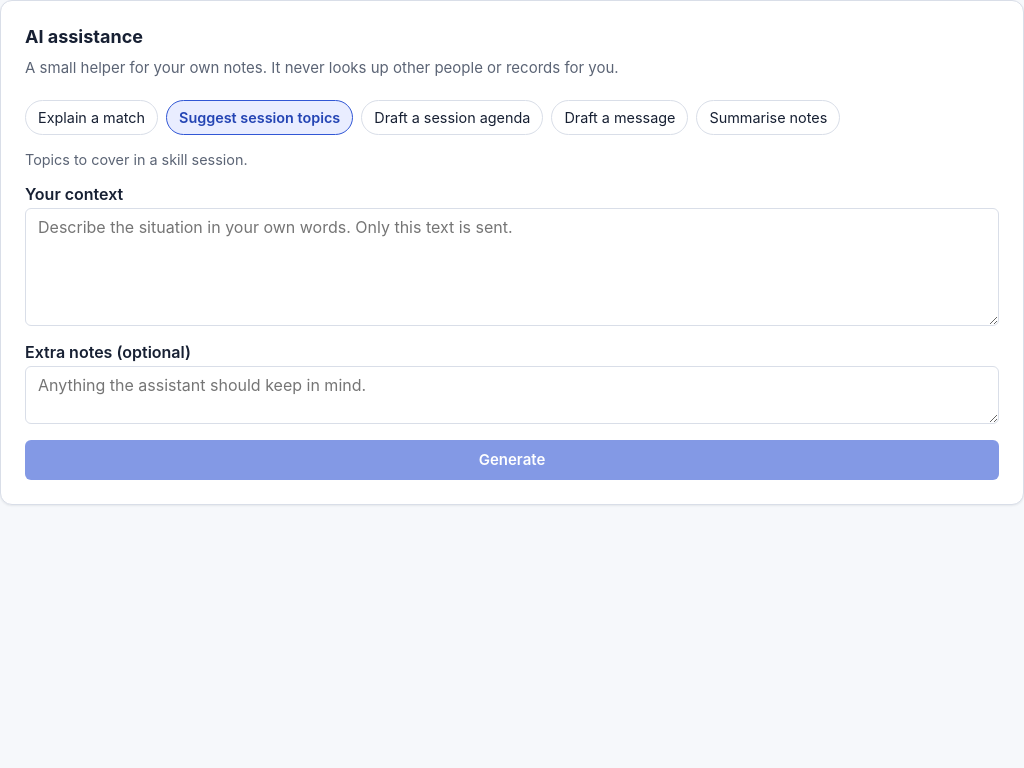
it: AiAssistancePanel › shows a clean unavailable state and invents no text
Replace the text in the text box with placeholder "Describe the situation" with "I want to learn advanced Python from a verified peer.": (512, 267) [25,208,999,326]
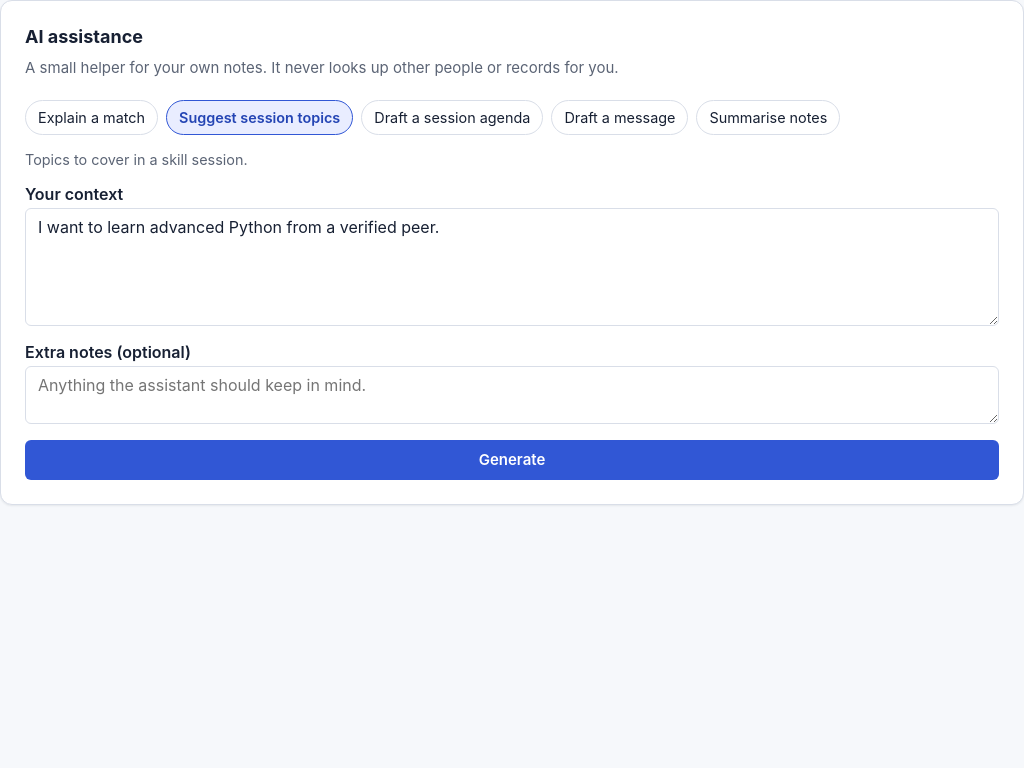
Click the button "Generate": (512, 460) [25,440,999,480]
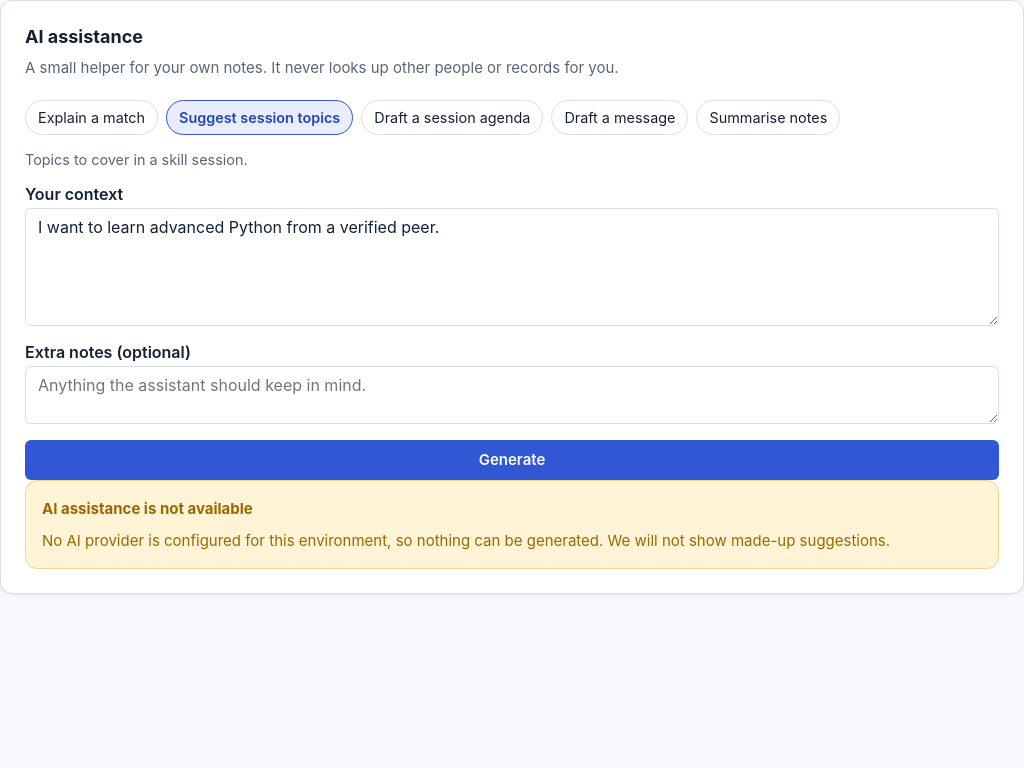
Expected: the text "AI assistance is not available" is shown, [42,499,253,518]
